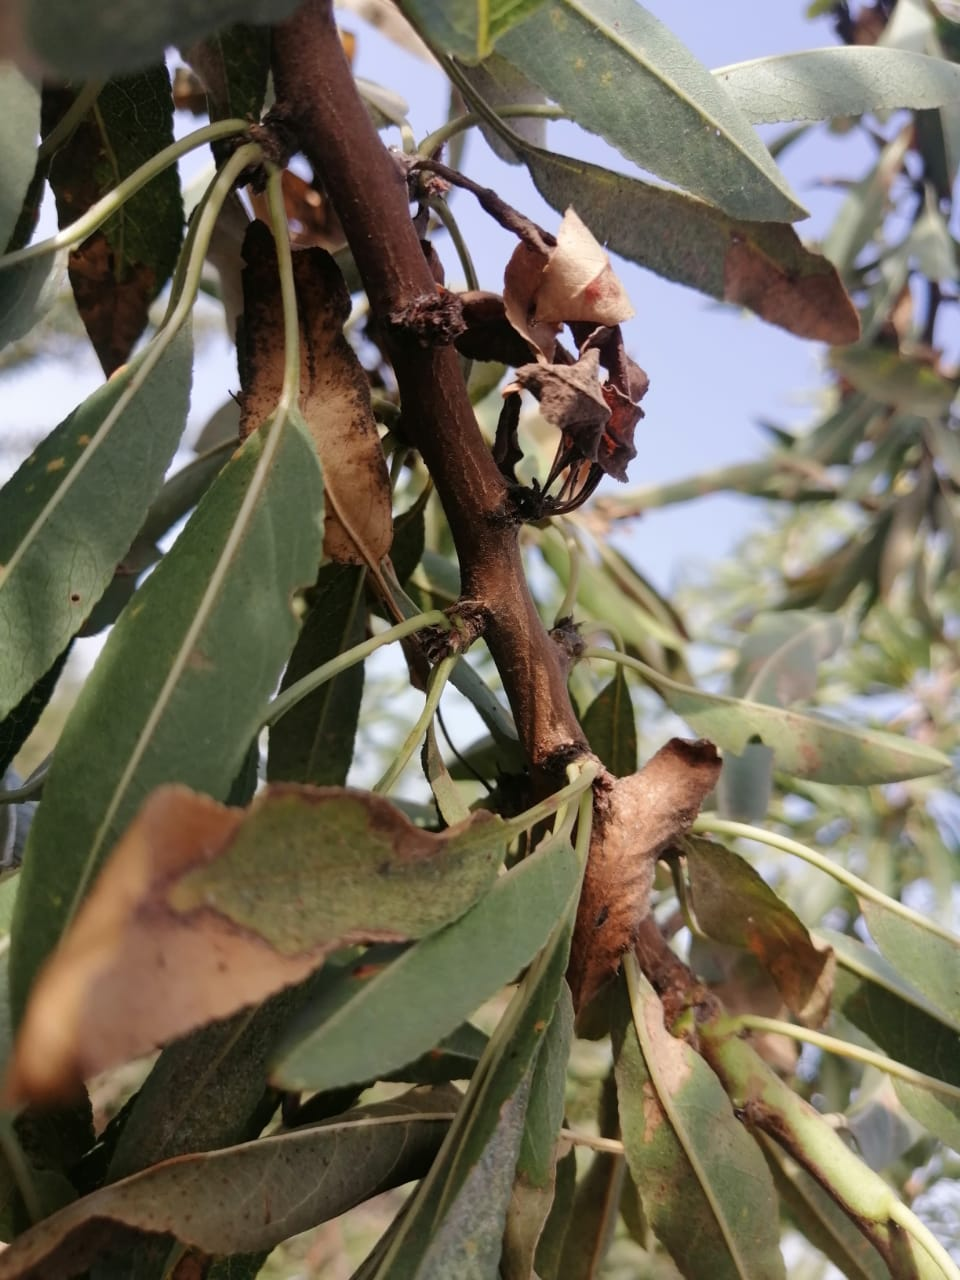scolytes: (233, 208, 728, 1031)
